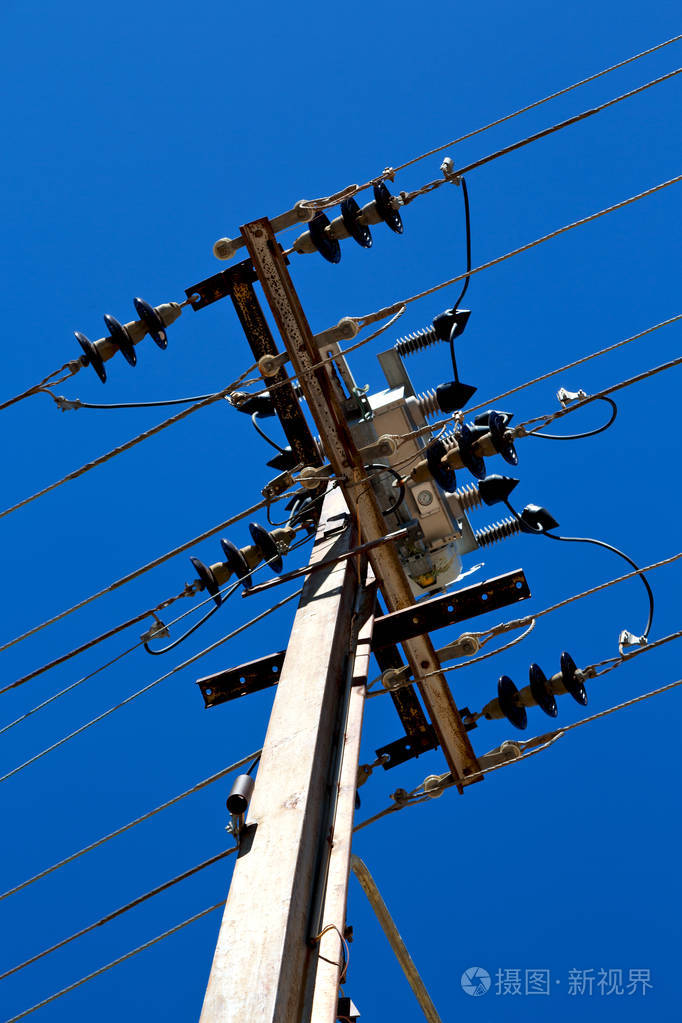insulator: (186, 516, 283, 609), (308, 174, 410, 262), (71, 293, 166, 386), (494, 649, 591, 733)
